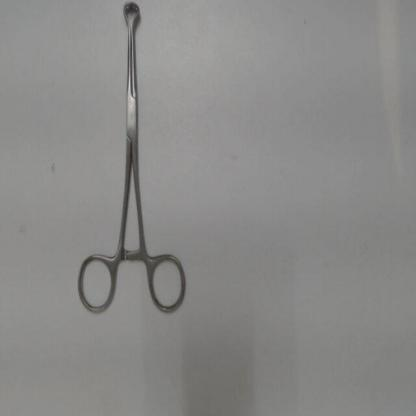Babcock Tissue Forceps: (75, 0, 189, 317)
